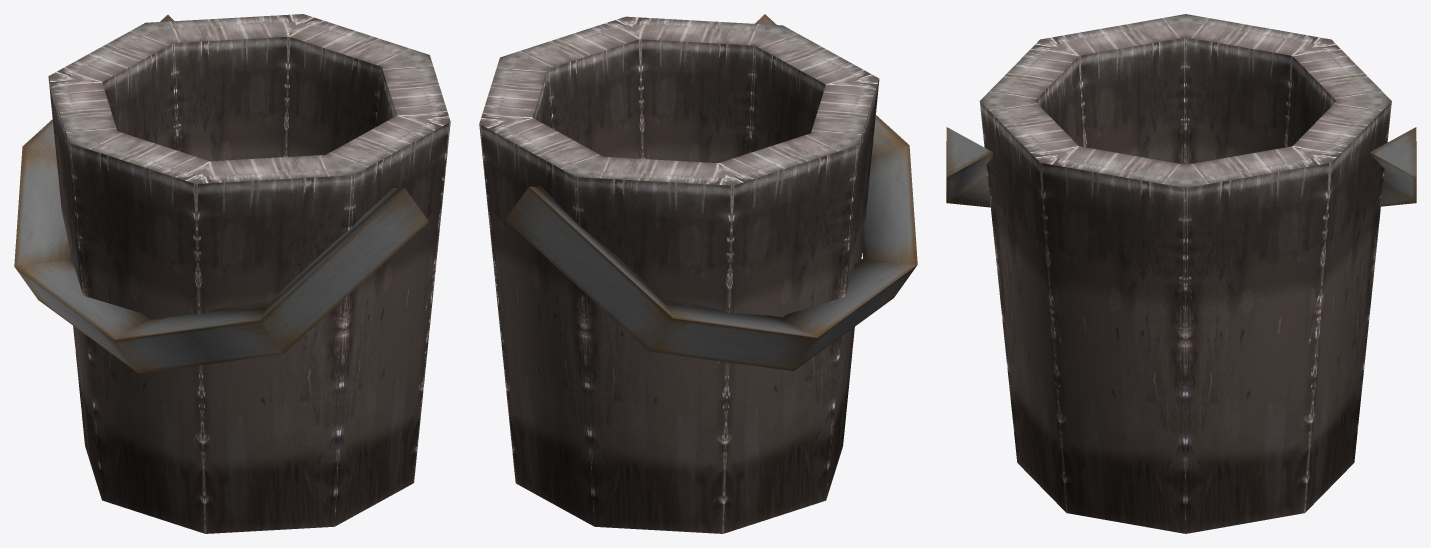
File: bucket.obj
3 views of the same model, side by side, from view 1: azimuth 30°, elevation 25°; view 2: azimuth 150°, elevation 25°; view 3: azimuth 270°, elevation 25° (orthographic).
Visible parts, largest first — view 1: Geoset0, Geoset1; view 2: Geoset0, Geoset1; view 3: Geoset0, Geoset1.
Part boxes in pixels (<box>): Geoset0: <box>48,14,450,533</box>; Geoset1: <box>14,15,428,373</box>; Geoset0: <box>479,16,879,533</box>; Geoset1: <box>505,14,917,371</box>; Geoset0: <box>979,14,1391,533</box>; Geoset1: <box>946,127,1416,207</box>.
Bounding box in the file's own units: 0.9572 × 0.9095 × 1.07.
Materials: 2 (2 with a texture image).
